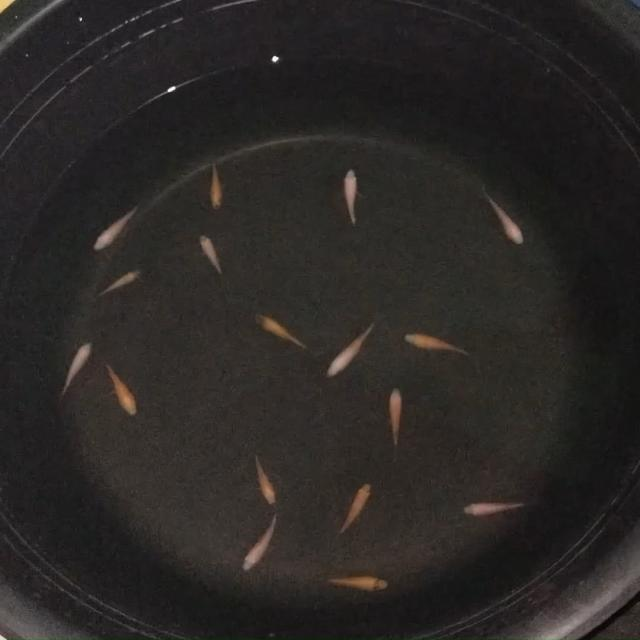nila: (322, 318, 377, 380), (52, 338, 98, 403), (480, 185, 524, 248), (100, 358, 144, 420), (236, 514, 279, 576), (331, 481, 373, 544), (256, 309, 312, 352), (94, 203, 142, 253), (401, 329, 476, 356), (95, 266, 144, 302), (250, 450, 280, 508), (458, 496, 538, 516), (340, 165, 362, 233), (325, 571, 390, 594), (388, 385, 406, 467), (200, 232, 228, 283), (208, 159, 226, 213)
